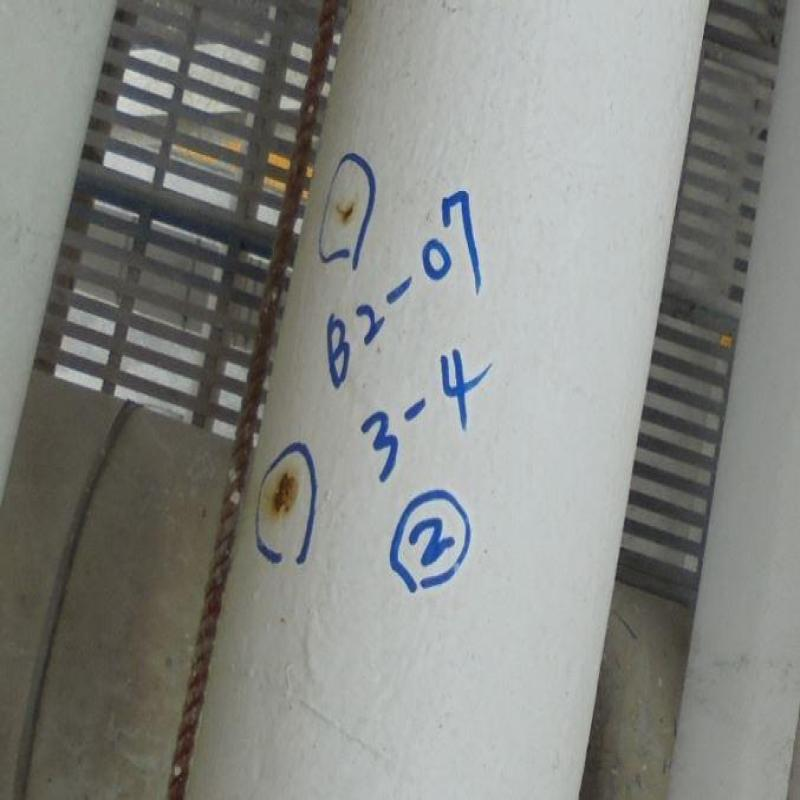corrosion: (270, 466, 300, 516), (334, 198, 358, 226)
